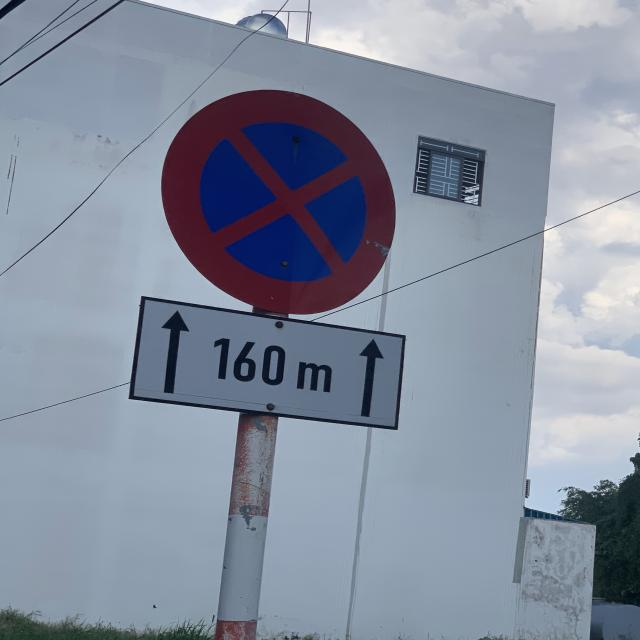Cam_Dung_Va_Dau_Xe: (161, 88, 395, 312)
